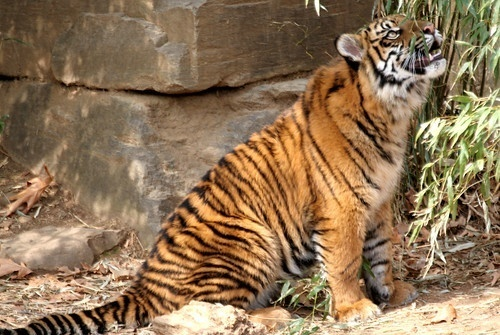tigre: (29, 13, 452, 331)
